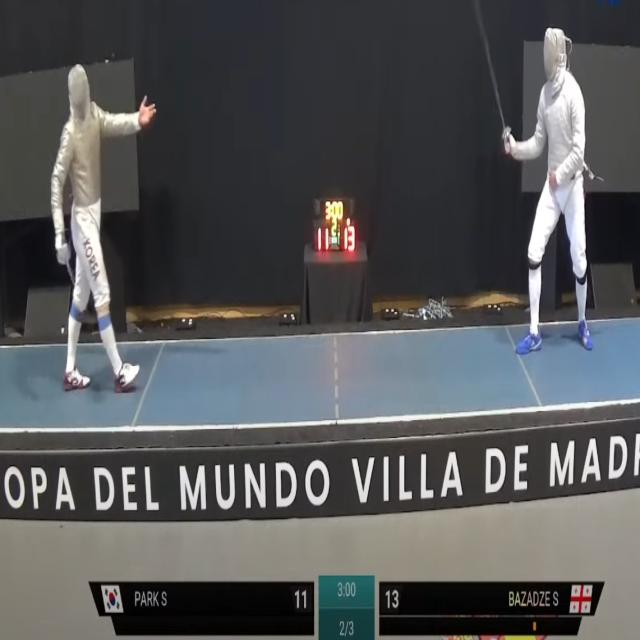fencer: (503, 29, 604, 369), (56, 66, 153, 409)
overlayLeft: (87, 583, 275, 618)
overlayRight: (422, 582, 608, 616)
scoreLeft: (275, 583, 315, 617)
scoreRight: (380, 582, 420, 614)
